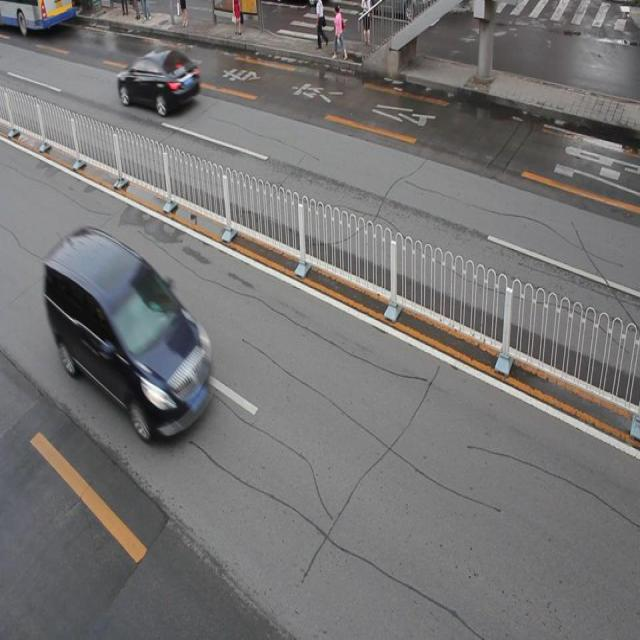car: (116, 45, 201, 116)
truck: (43, 224, 212, 440)
